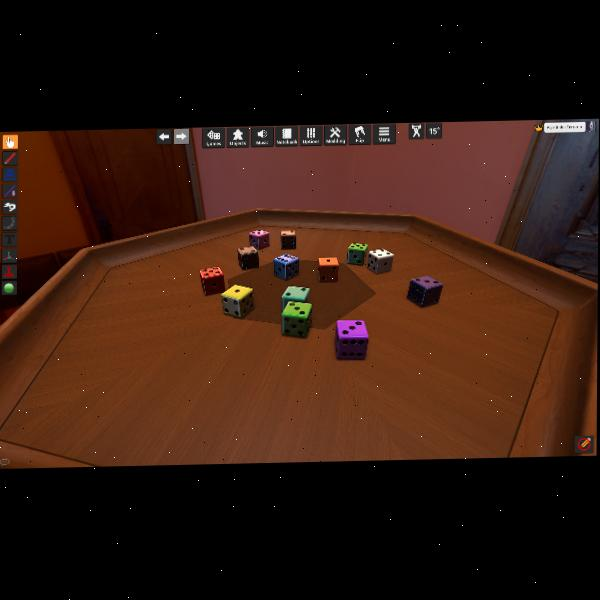d6: (336, 319, 369, 359), (220, 283, 253, 318), (281, 300, 312, 337), (408, 274, 442, 307), (281, 285, 309, 312), (200, 265, 224, 295), (273, 253, 299, 280), (367, 248, 393, 273), (237, 245, 259, 270), (318, 256, 338, 281), (347, 242, 367, 266), (249, 228, 270, 250), (281, 229, 296, 250)
